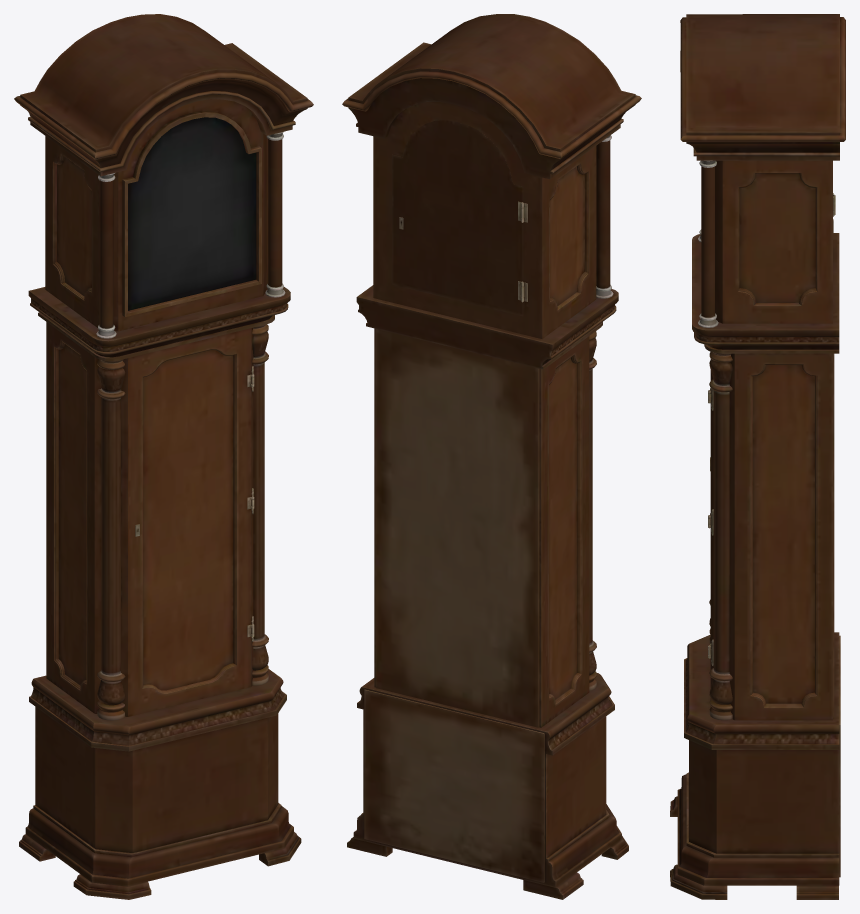
Rendered from m_vintage_grandfather_clock_01.glb.
3 views of the same model, side by side, from view 1: azimuth 30°, elevation 25°; view 2: azimuth 150°, elevation 25°; view 3: azimuth 270°, elevation 25° (orthographic). The views are drawn at different scales.
Visible parts, largest first — view 1: vintage_grandfather_clock_01_Body; view 2: vintage_grandfather_clock_01_Body; view 3: vintage_grandfather_clock_01_Body.
Part boxes in pixels (bbox=[...]): vintage_grandfather_clock_01_Body: bbox=[14, 14, 313, 899]; vintage_grandfather_clock_01_Body: bbox=[342, 14, 641, 899]; vintage_grandfather_clock_01_Body: bbox=[670, 14, 845, 899].
Size of the model in its own units: 0.6255 by 2.19 by 0.4265.
Materials: 2 (2 with a texture image).
